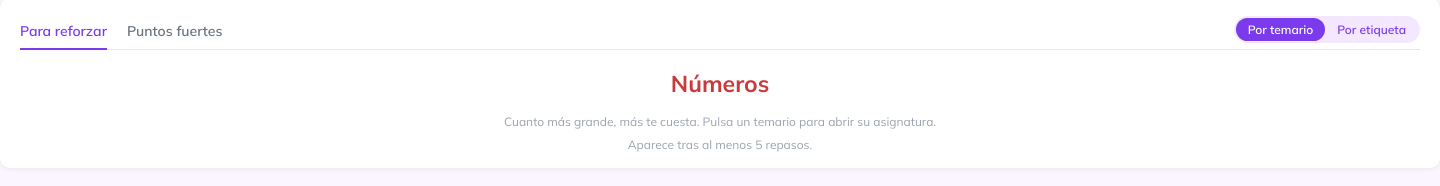
Scenario: MasteryClouds › agrupación por etiqueta › empieza por temario y permite pasar a etiqueta
Expected: the button "Números" is shown, [671,70,769,98]
Click the button "Por etiqueta" at (1372, 30), box [1325,18,1418,41]
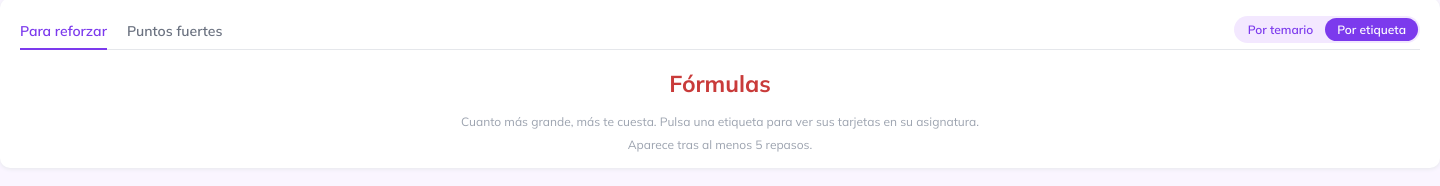
Expected: the button "Fórmulas" is shown, [669,70,771,98]
Expected: the button "Números" is gone
